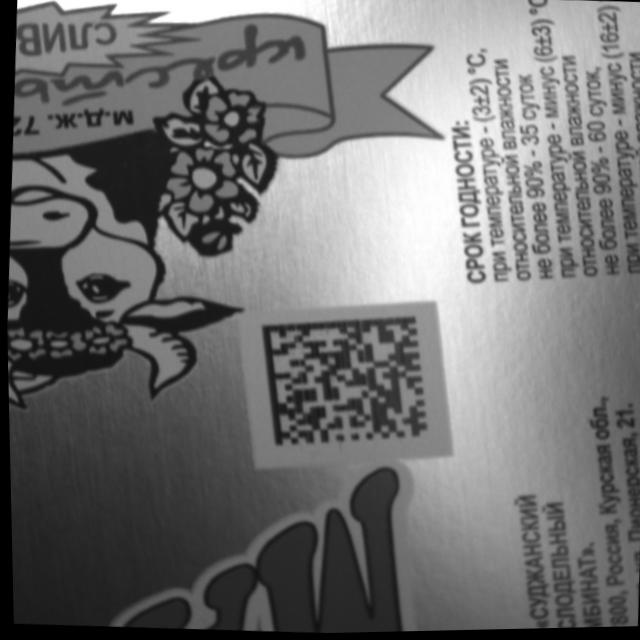datamatrix: (254, 309, 433, 457)
